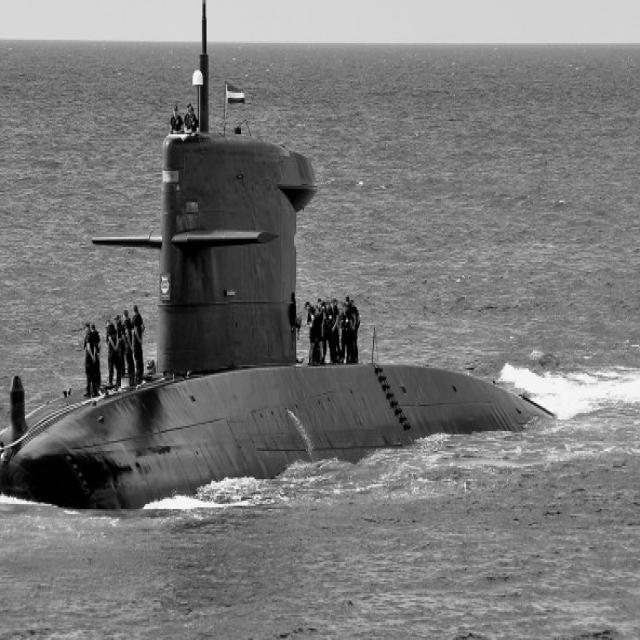submarine: (1, 1, 640, 498)
